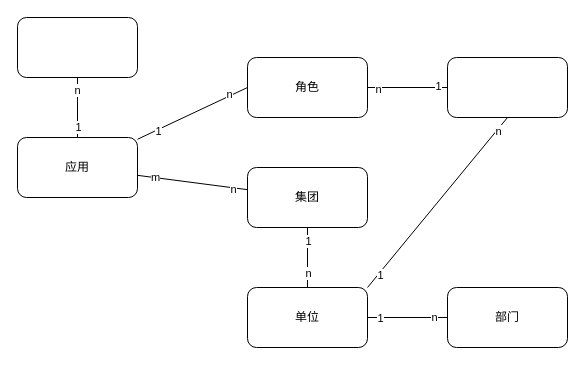
Image size: 585x365. Some labels were removed from this diagram. The shapes that lost their labels are listed below. From the top down, each one's centre as x and y in pixels, then its label:
At pixel 77 47: "权限编码".
At pixel 507 87: "角色组".
